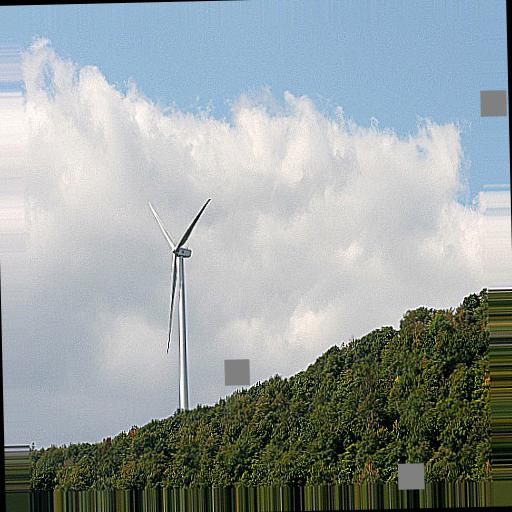wind turbine: (149, 199, 214, 418)
